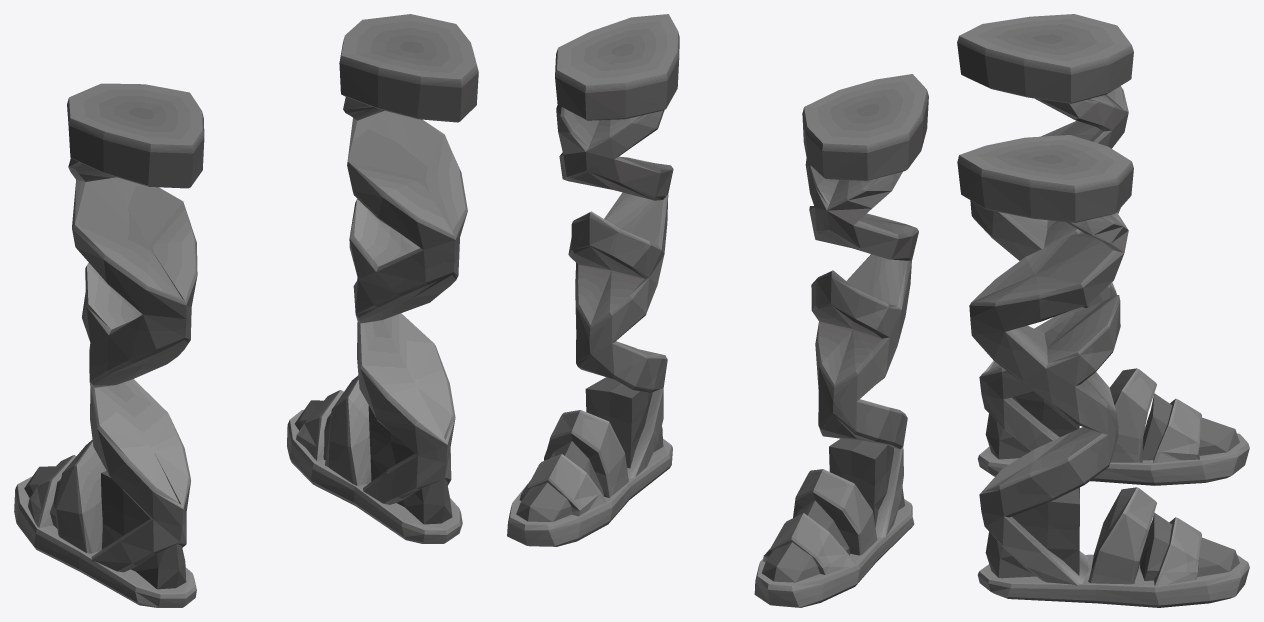
The model's file is CharSkyKid_Feet_AP20LongStraps.glb.
3 views of the same model, side by side, from view 1: azimuth 30°, elevation 25°; view 2: azimuth 150°, elevation 25°; view 3: azimuth 270°, elevation 25° (orthographic). The views are drawn at different scales.
Parts seen in each view (by area): view 1: CharSkyKid_Feet_AP20LongStraps; view 2: CharSkyKid_Feet_AP20LongStraps; view 3: CharSkyKid_Feet_AP20LongStraps.
Part boxes in pixels (x1=…): CharSkyKid_Feet_AP20LongStraps: x1=14, y1=14, x2=478, y2=607; CharSkyKid_Feet_AP20LongStraps: x1=507, y1=14, x2=928, y2=607; CharSkyKid_Feet_AP20LongStraps: x1=957, y1=14, x2=1249, y2=607.
Bounding box in the file's own units: 2.66 × 3.1 × 1.9.
1 material, 1 textured.
